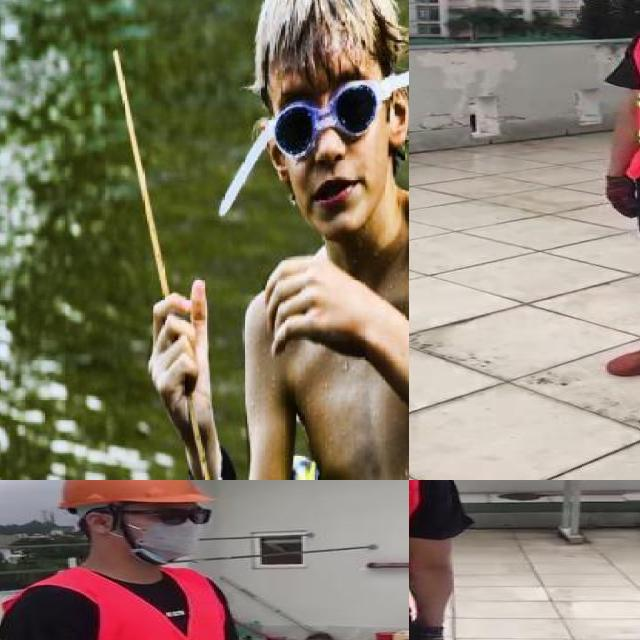boots: (605, 289, 640, 376)
face_mask: (125, 499, 209, 564)
face_nomask: (277, 85, 383, 222)
glasses: (256, 79, 404, 165), (146, 502, 218, 530)
hand_glove: (603, 175, 639, 219), (409, 624, 443, 640)
hand_noglove: (143, 272, 217, 432), (262, 248, 352, 352)
head_helmet: (54, 480, 207, 508)
head_nohelmet: (243, 0, 406, 61)
person: (136, 0, 409, 480), (0, 480, 291, 640), (409, 480, 471, 640)
vest: (0, 564, 244, 640)
